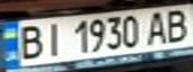0: (121, 11, 142, 48)
1: (66, 17, 90, 54)
3: (103, 13, 127, 51)
9: (87, 16, 109, 52)
A: (142, 8, 172, 45)
B: (12, 21, 48, 61), (160, 6, 190, 44)
I: (39, 19, 69, 57)
